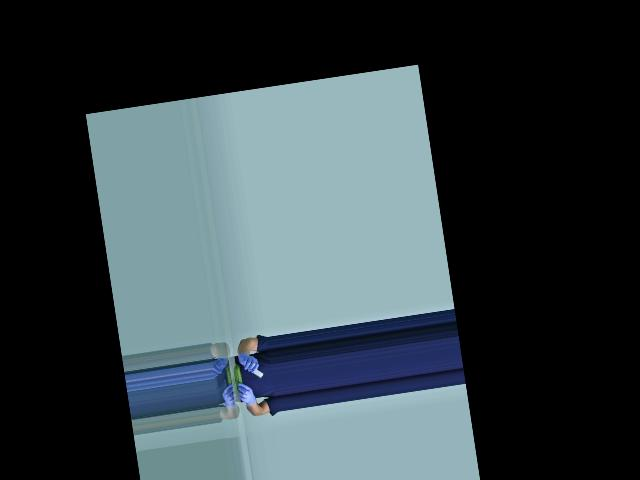cucumber: (232, 363, 243, 391)
